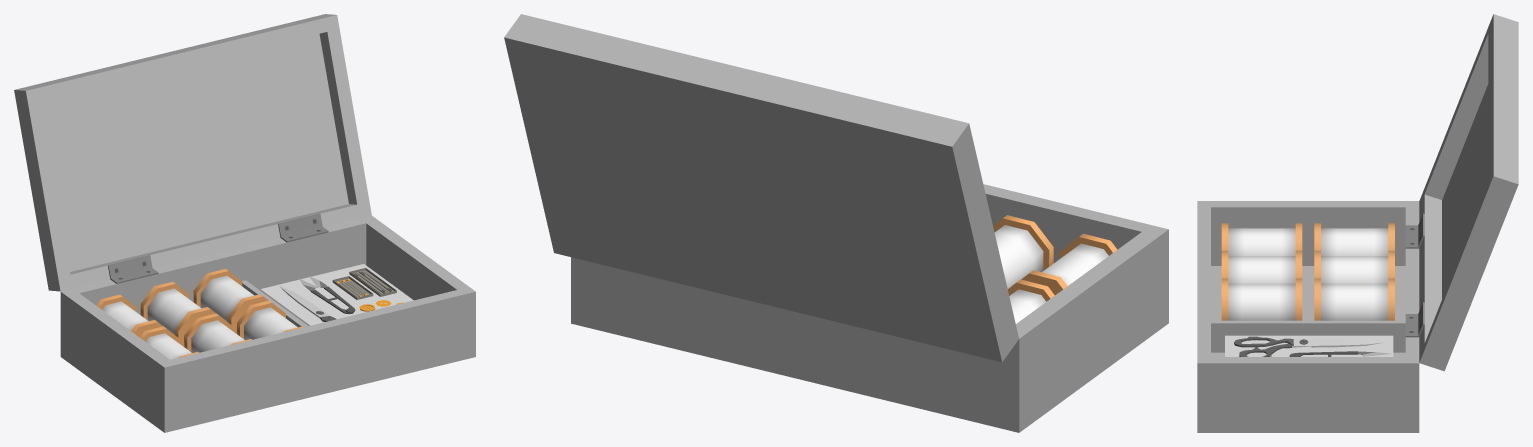
The model's file is sewing-kit-2.fbx.
The picture shows the model from 3 angles, left to right: view 1: azimuth 30°, elevation 25°; view 2: azimuth 150°, elevation 25°; view 3: azimuth 270°, elevation 25°; orthographic projection. The views are drawn at different scales.
Visible parts, largest first — view 1: sewing-kit-2; view 2: sewing-kit-2; view 3: sewing-kit-2.
Part boxes in pixels (x1=…): sewing-kit-2: x1=14, y1=14, x2=475, y2=432; sewing-kit-2: x1=504, y1=14, x2=1168, y2=432; sewing-kit-2: x1=1197, y1=14, x2=1518, y2=432.
Bounding box in the file's own units: 46.61 × 34.4 × 39.03.
Materials: 20 (10 with a texture image).
